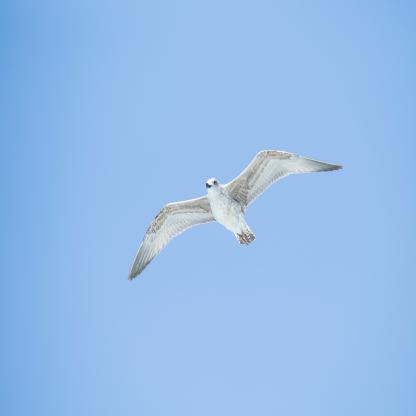bird: (128, 148, 344, 282)
